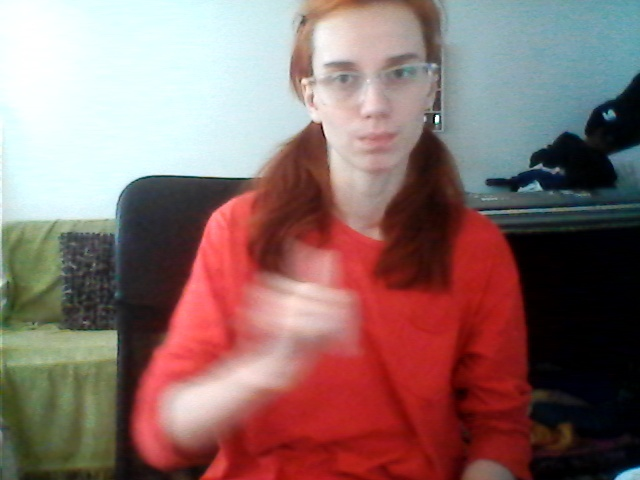ano: (243, 248, 373, 397)
